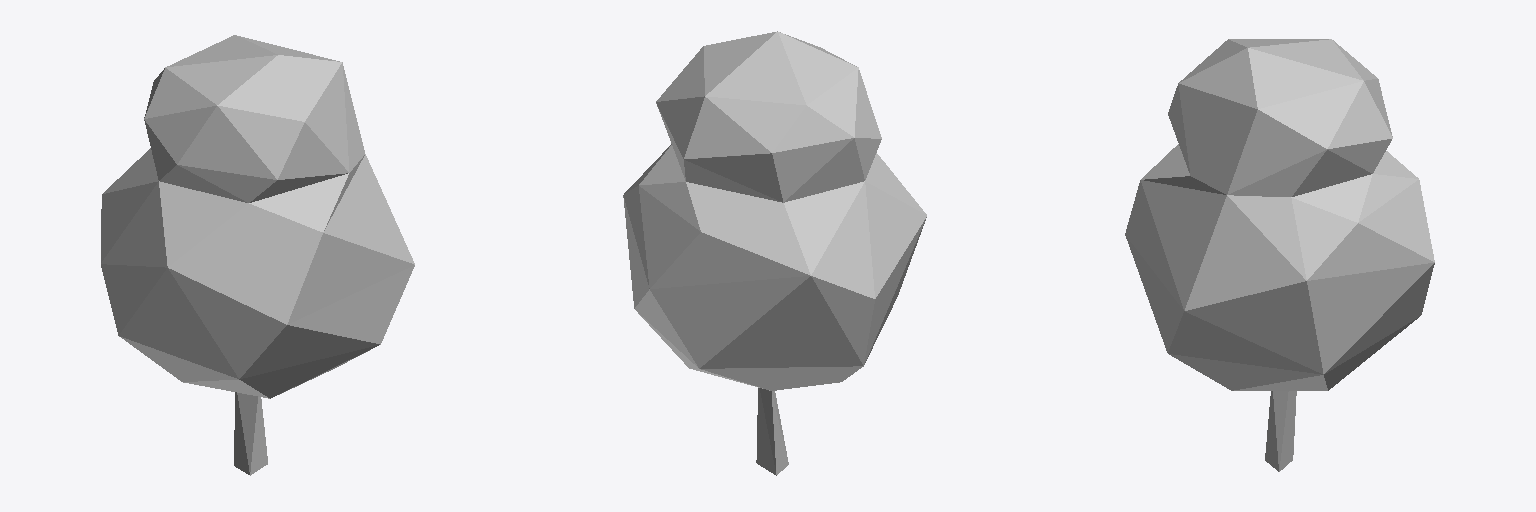
File: Tree6.obj
The picture shows the model from 3 angles: view 1: azimuth 30°, elevation 25°; view 2: azimuth 150°, elevation 25°; view 3: azimuth 270°, elevation 25°; orthographic projection.
Parts seen in each view (by area): view 1: Tree_Icosphere.001; view 2: Tree_Icosphere.001; view 3: Tree_Icosphere.001.
Boxes of the visible parts, x1=… form: Tree_Icosphere.001: x1=101, y1=35, x2=414, y2=475; Tree_Icosphere.001: x1=623, y1=31, x2=926, y2=475; Tree_Icosphere.001: x1=1125, y1=39, x2=1434, y2=471.
Bounding box in the file's own units: 9.51 × 14.62 × 9.72.